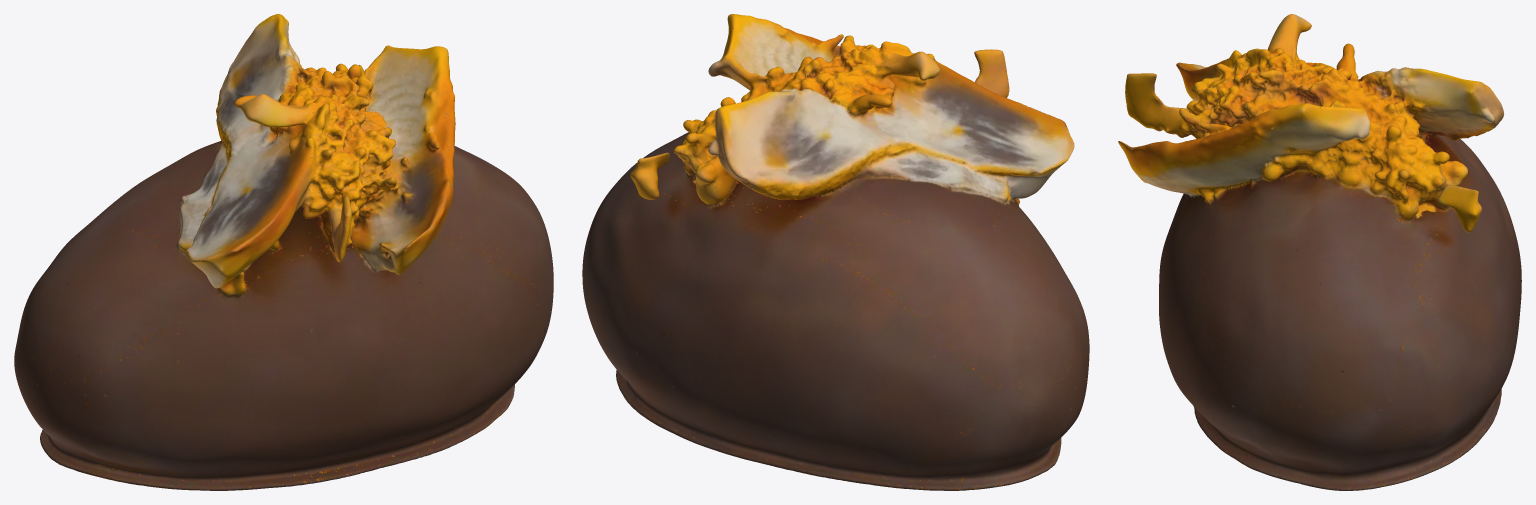
Rendered from eclat-orange.glb.
The picture shows the model from 3 angles, left to right: view 1: azimuth 30°, elevation 25°; view 2: azimuth 150°, elevation 25°; view 3: azimuth 270°, elevation 25°; orthographic projection.
Bounding box in the file's own units: 2 × 1.38 × 1.44.
1 material, 1 textured.
